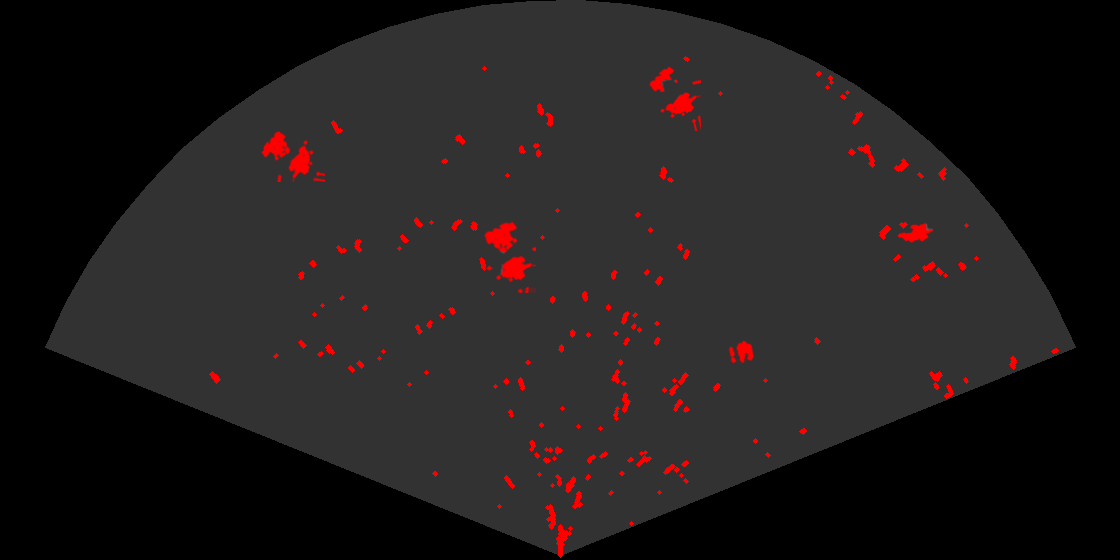AUV: (896, 221, 935, 244)
ball: (727, 339, 755, 365)
cage: (483, 220, 536, 293), (648, 65, 701, 131), (259, 129, 325, 182)
